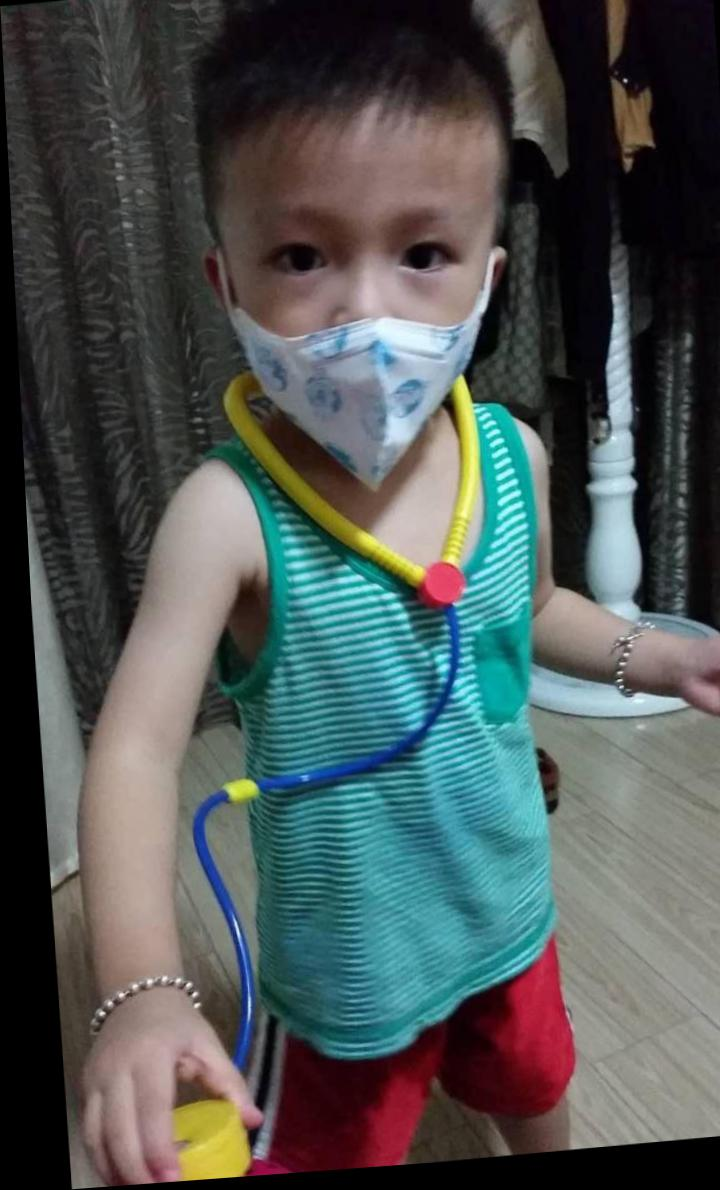WRONG: (204, 179, 501, 481)
